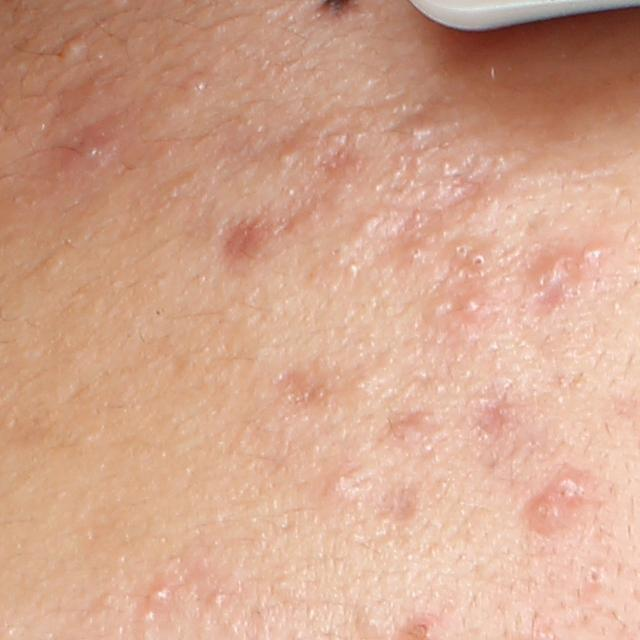comedo: (399, 240, 432, 268), (448, 239, 475, 265), (356, 213, 382, 240), (59, 33, 87, 56), (180, 72, 209, 94), (582, 564, 606, 589), (470, 251, 490, 271), (275, 147, 296, 166), (204, 591, 223, 609)
papule: (523, 491, 571, 543), (74, 121, 126, 168), (530, 252, 577, 293), (572, 237, 610, 264), (146, 583, 172, 609), (457, 293, 483, 316)
